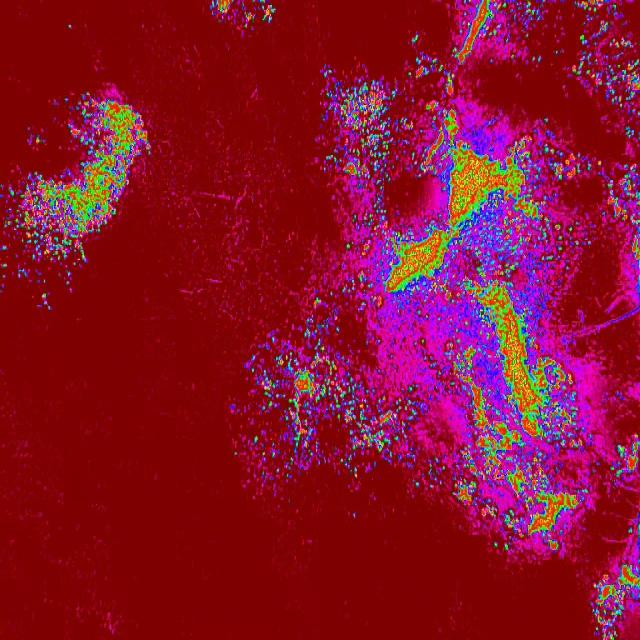fire: (321, 84, 590, 483), (232, 332, 322, 493), (446, 482, 590, 558), (0, 178, 127, 237), (68, 92, 150, 177), (576, 0, 640, 108), (446, 0, 544, 59), (594, 517, 640, 640), (0, 236, 88, 298), (603, 160, 640, 266), (210, 0, 278, 29), (604, 434, 640, 488), (406, 55, 454, 84)
